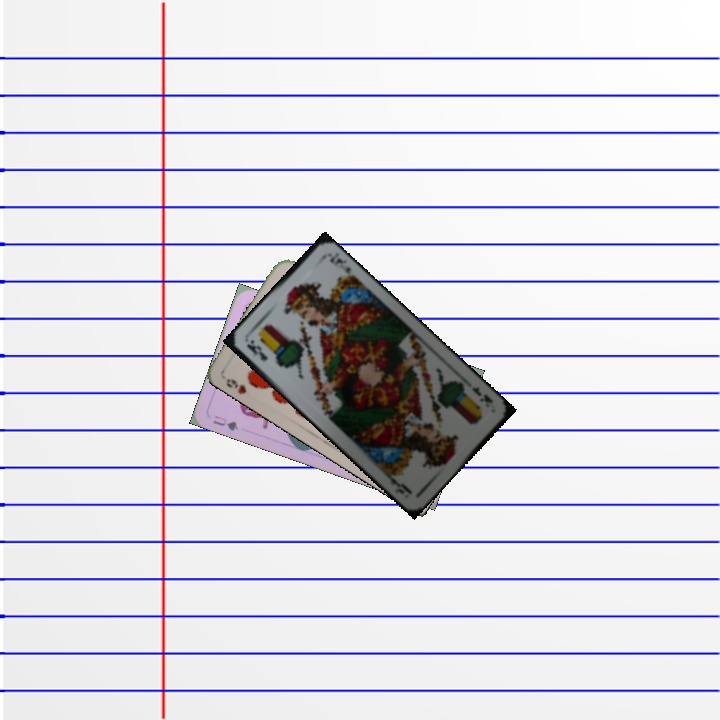EK: (242, 336, 270, 363), (468, 382, 496, 405)
GU: (209, 411, 241, 433)
H9: (222, 375, 249, 397)
